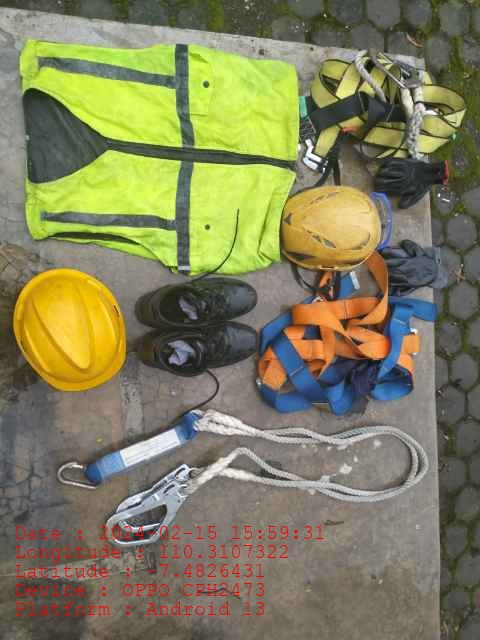HELM: (12, 267, 127, 392), (279, 185, 380, 270)
ROMPI: (19, 38, 290, 271)
SEPATU: (133, 275, 258, 375)
TAMBANG_SLING: (62, 410, 427, 526)
